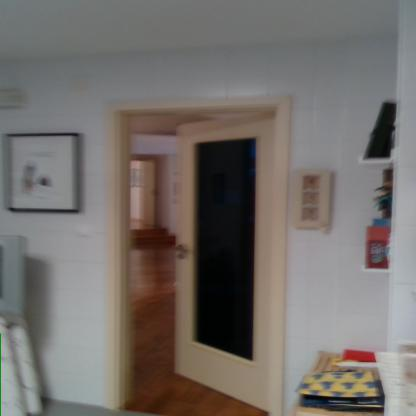semi: (94, 82, 310, 415)
